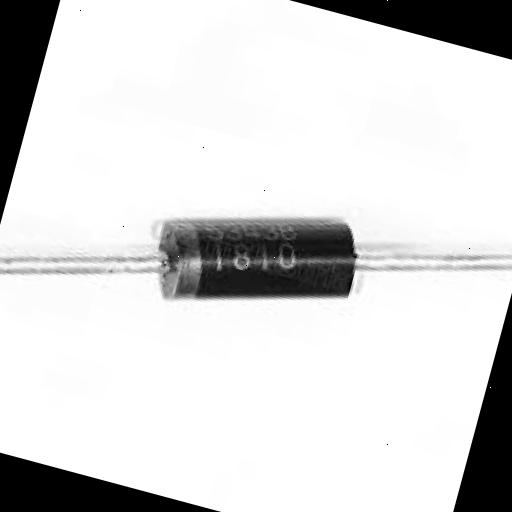DIODE: (71, 121, 458, 438)
